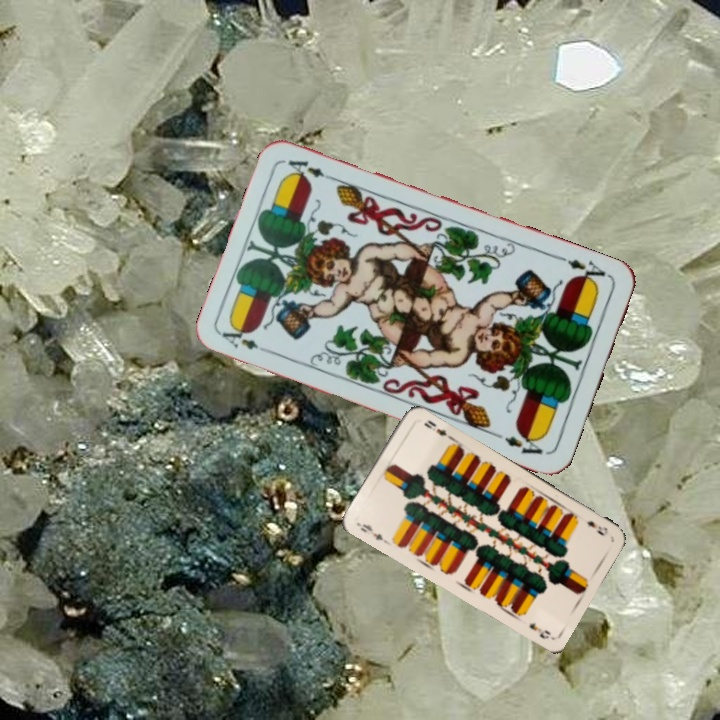E9: (353, 519, 390, 546), (582, 516, 611, 539)
EA: (218, 321, 275, 357), (556, 252, 608, 288)
